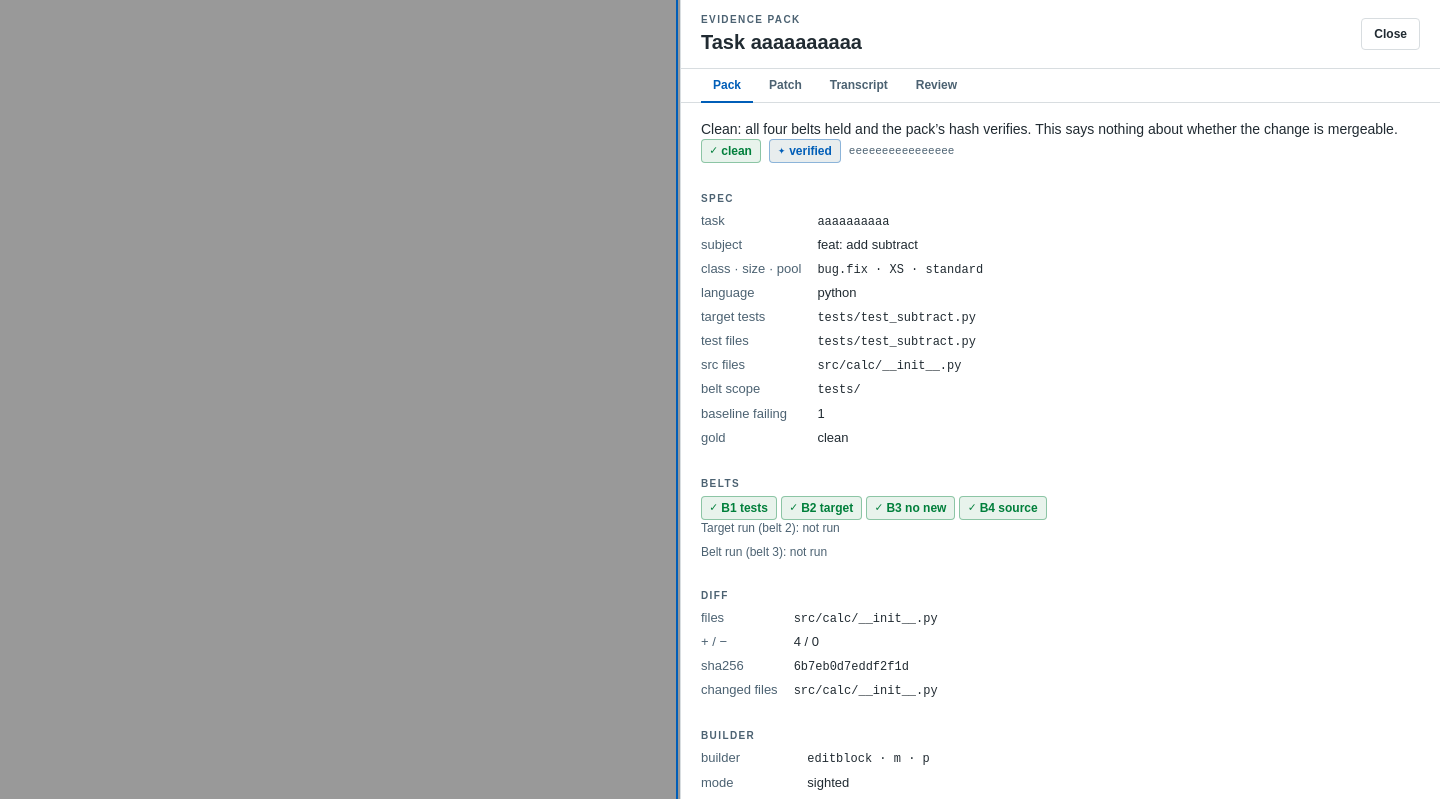
Test: EvidenceDrawer: Patch tab › says why when nothing was retained, and the transcript tab reports its reason
This screenshot has width=1440, height=799.
What coordinates should you click on to do the following:
click the tab with test id "tab-patch"
I would click on:
 (785, 86)
Its box is [757,68,814,102].
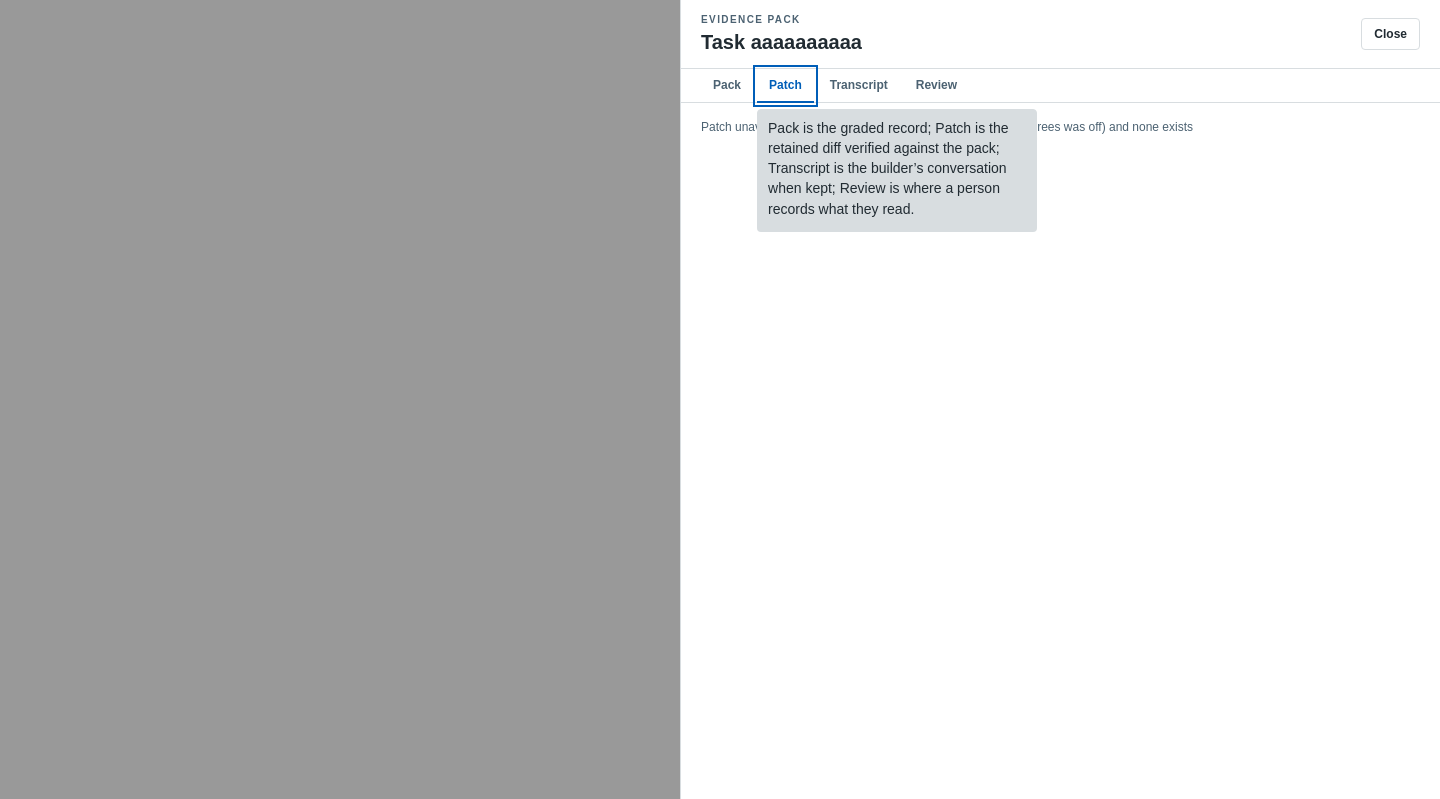
Result: the text with test id "patch-unavailable" shows "did not retain worktrees" at [802,120,1193,134]
What coordinates should you click on to do the following:
click the tab with test id "tab-transcript"
I would click on:
 (859, 86)
Its box is [818,68,900,102].
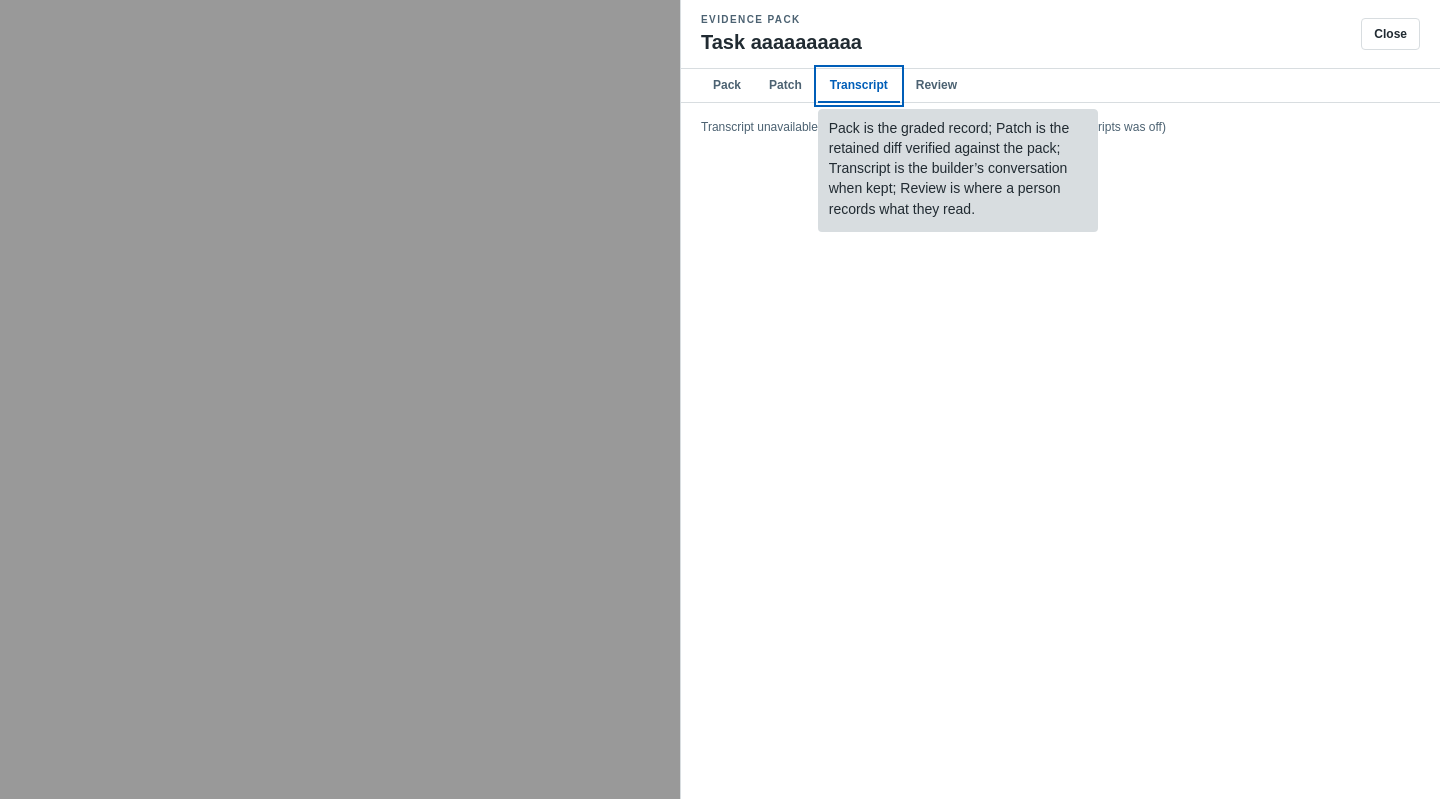
Result: the text with test id "transcript-unavailable" shows "was not retained" at [825,120,1166,134]
